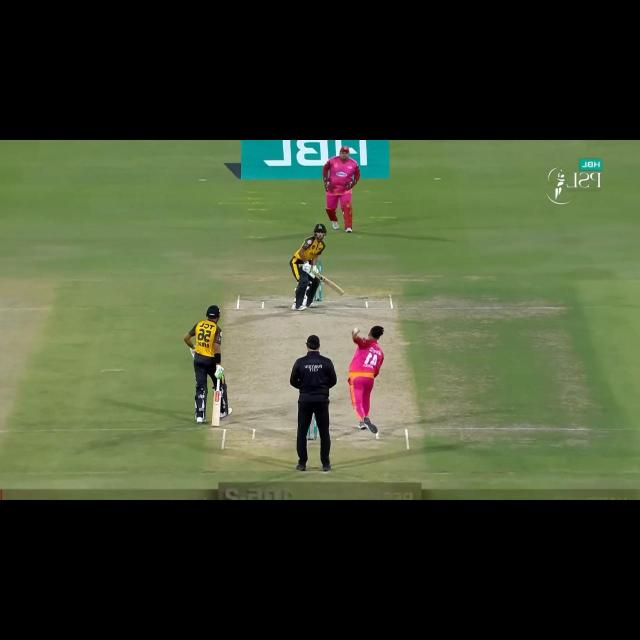bat: (315, 274, 344, 296), (211, 391, 222, 428)
toe: (336, 288, 345, 297), (211, 420, 221, 427)
